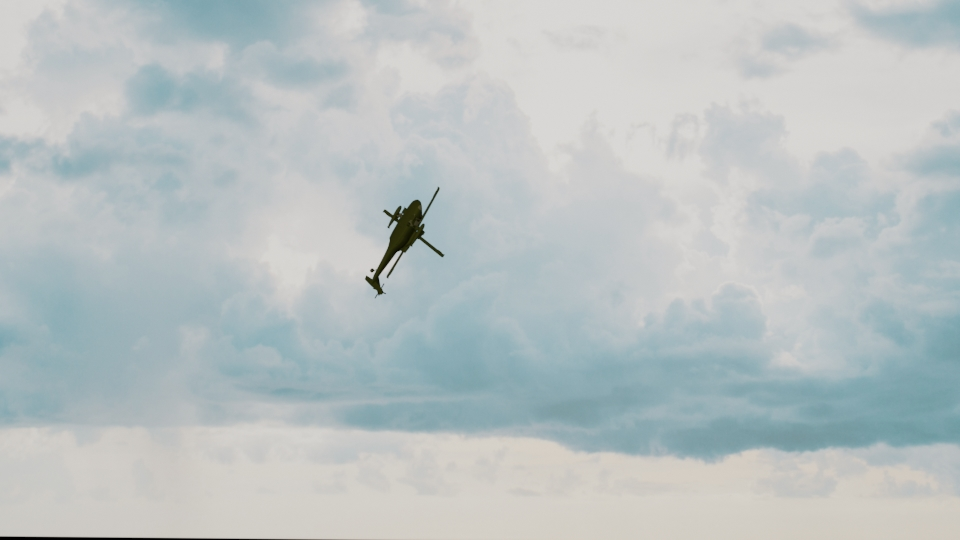heli: (364, 184, 447, 294)
